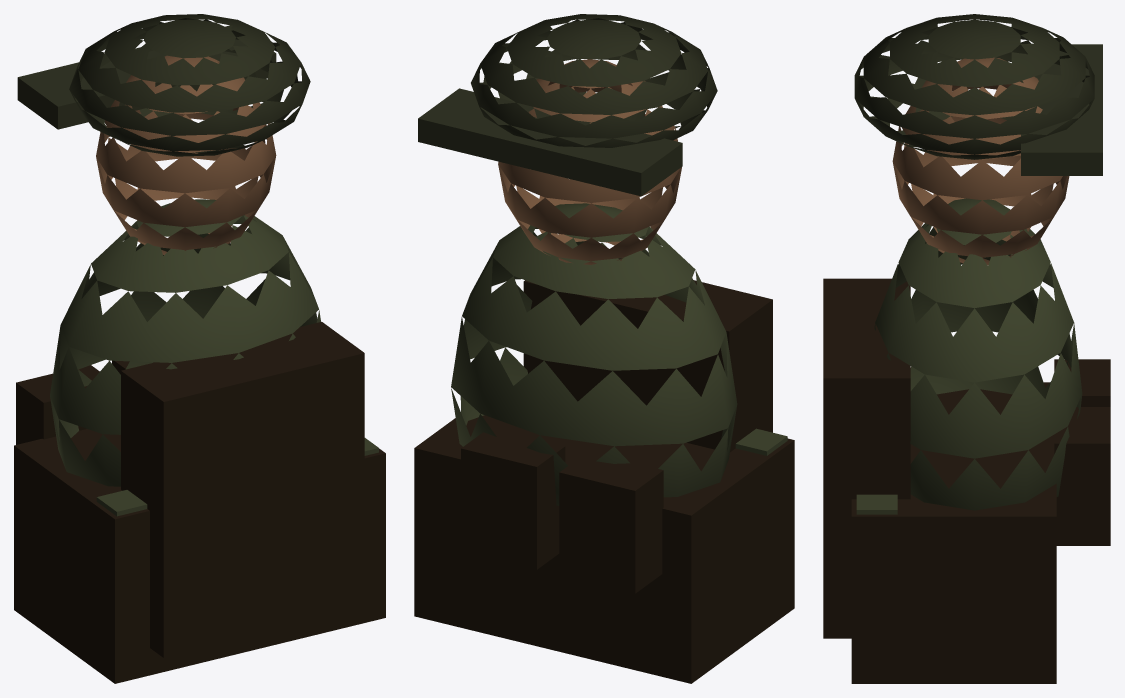
Rendered from axis-rifleman.obj.
3 views of the same model, side by side, from view 1: azimuth 30°, elevation 25°; view 2: azimuth 150°, elevation 25°; view 3: azimuth 270°, elevation 25° (orthographic). The views are drawn at different scales.
Visible parts, largest first — view 1: part_3, part_0, part_2, part_1; view 2: part_3, part_0, part_2, part_1; view 3: part_3, part_0, part_2, part_1.
Boxes of the visible parts, <box> form: part_3: <box>14,321,385,683</box>; part_0: <box>50,199,378,516</box>; part_2: <box>17,14,310,156</box>; part_1: <box>96,55,276,254</box>; part_3: <box>414,280,794,683</box>; part_0: <box>451,203,787,505</box>; part_2: <box>418,14,717,196</box>; part_1: <box>498,59,681,264</box>; part_3: <box>823,278,1110,683</box>; part_0: <box>856,198,1082,514</box>; part_2: <box>854,14,1102,175</box>; part_1: <box>892,57,1069,265</box>.
Bounding box in the file's own units: 0.62 × 1.25 × 0.56.
